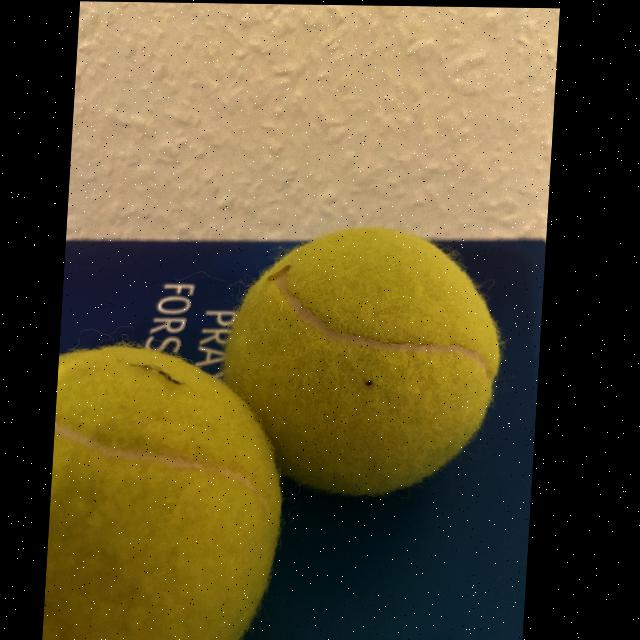Tennisball: (223, 228, 500, 496), (44, 346, 282, 640)
